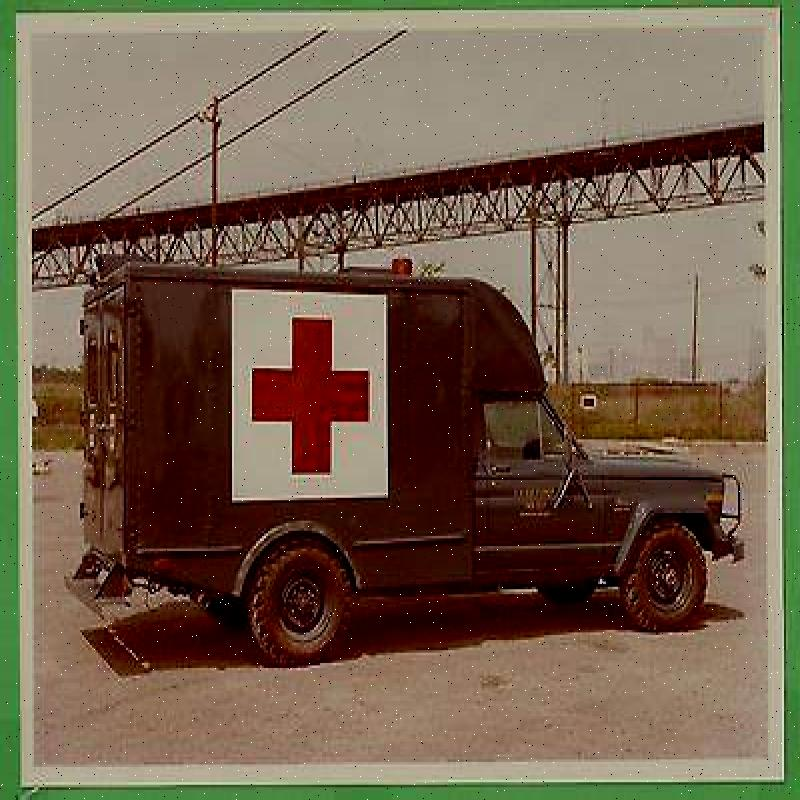AmbulanceSiren: (383, 244, 425, 282)
